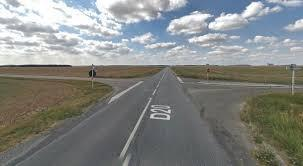road: (18, 68, 231, 165), (178, 78, 301, 166), (0, 74, 145, 103)
